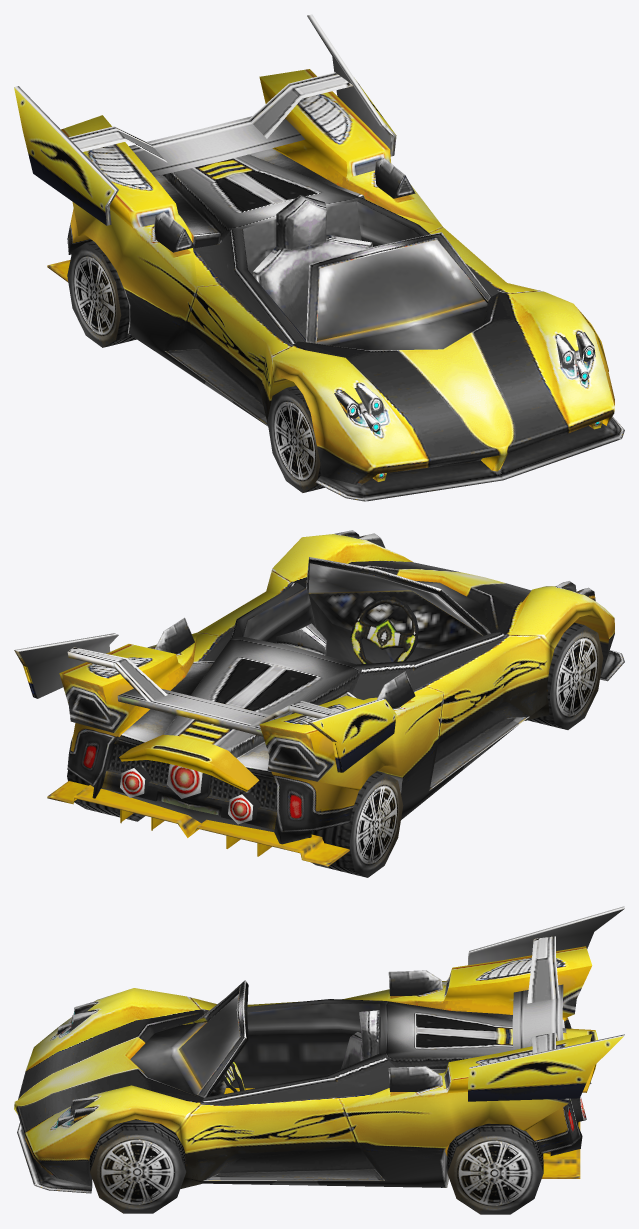
The model's file is npc_four.fbx.
3 renders of one model, top to bottom at view 1: azimuth 30°, elevation 25°; view 2: azimuth 150°, elevation 25°; view 3: azimuth 270°, elevation 25°, orthographic. The views are drawn at different scales.
Parts seen in each view (by area): view 1: npc_four; view 2: npc_four; view 3: npc_four.
Part boxes in pixels (x1=…): npc_four: x1=14, y1=14, x2=624, y2=501; npc_four: x1=14, y1=530, x2=624, y2=877; npc_four: x1=14, y1=906, x2=624, y2=1214.
Bounding box in the file's own units: 19.27 × 11.93 × 36.3.
